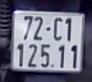1: (15, 40, 26, 67), (64, 15, 74, 43), (69, 45, 79, 69), (58, 44, 66, 68)
2: (26, 43, 39, 67), (34, 16, 43, 40)
5: (40, 42, 51, 68)
7: (20, 13, 34, 40)
C: (53, 17, 64, 40)
